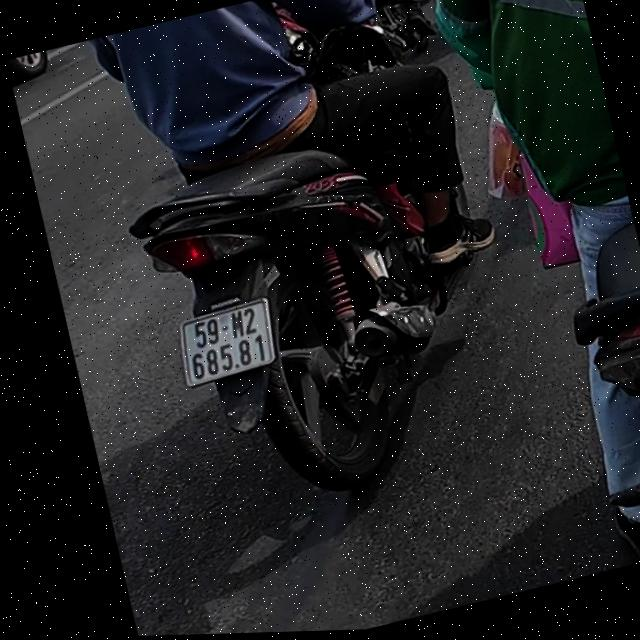motorcycle: (108, 114, 484, 533)
plate: (171, 297, 281, 390)
